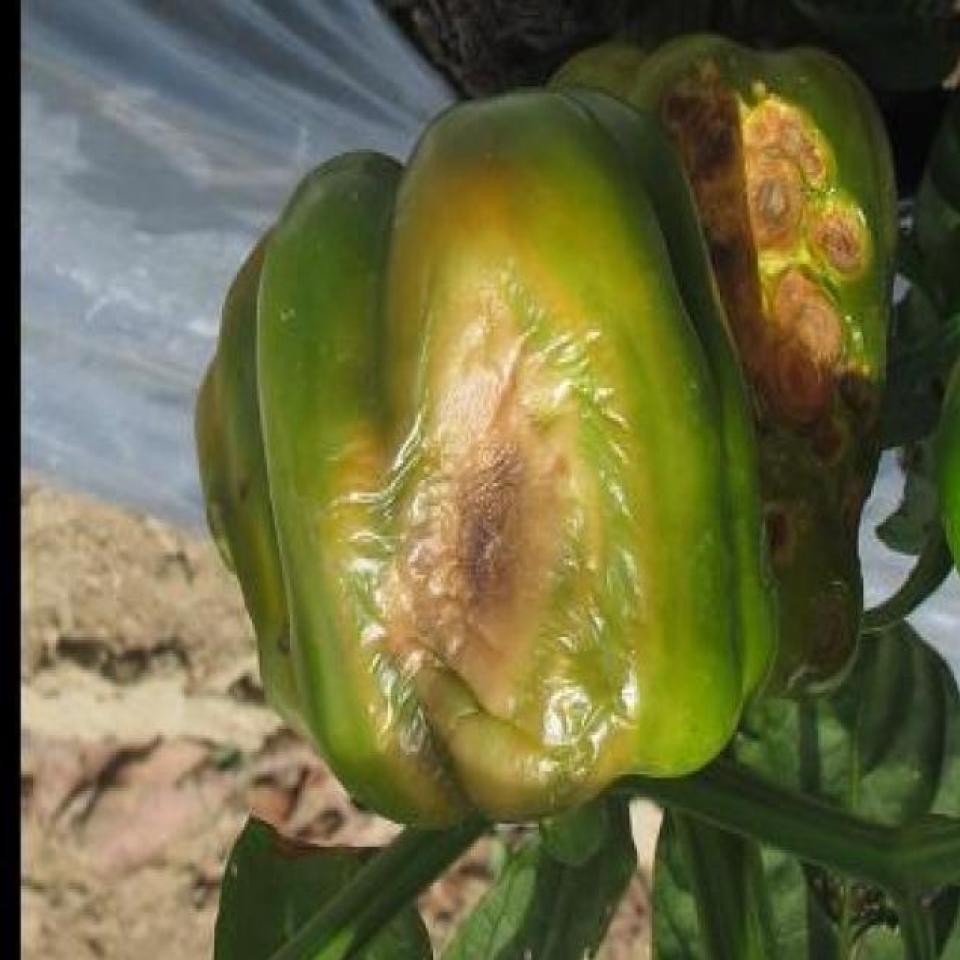Sunscald: (311, 209, 679, 839)
